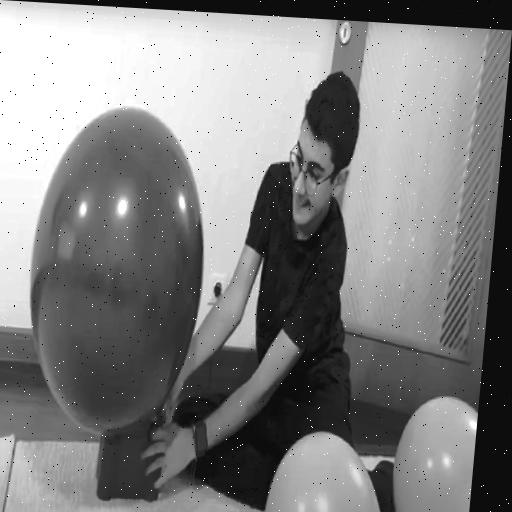balloon: (21, 101, 216, 438), (391, 394, 479, 512), (265, 431, 386, 512)
